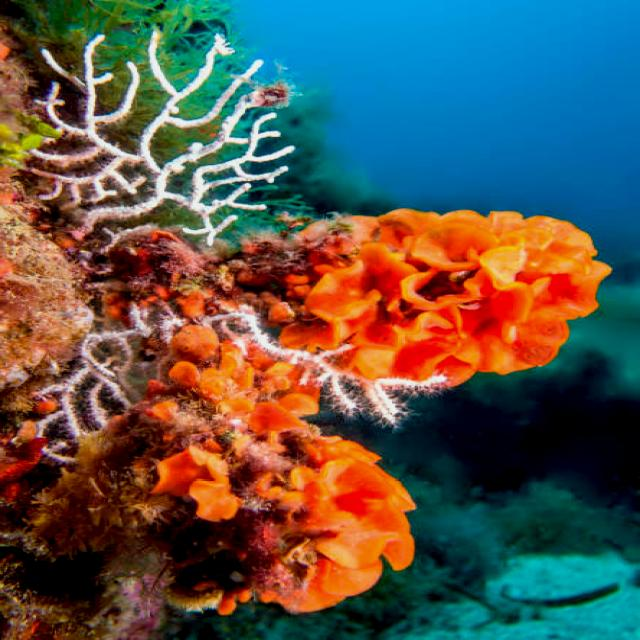Coral: (144, 207, 612, 616)
